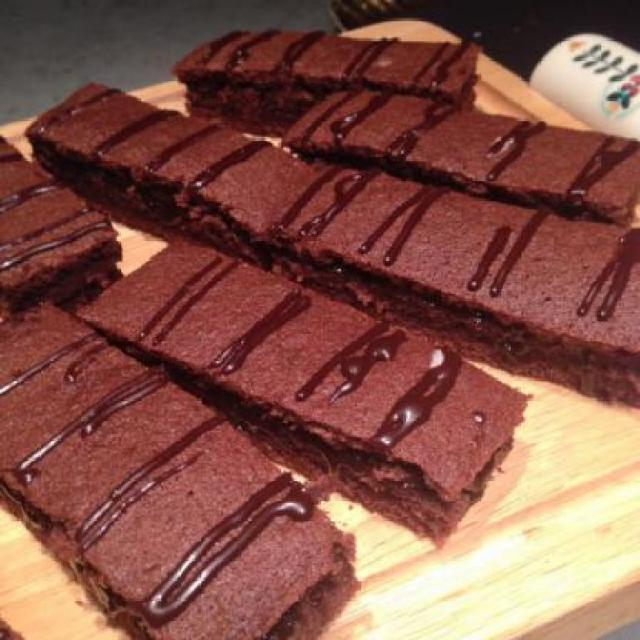Merendine packaged: (89, 239, 540, 535), (1, 306, 354, 640), (287, 167, 639, 393), (290, 84, 639, 216), (40, 89, 300, 238), (186, 31, 480, 126)
